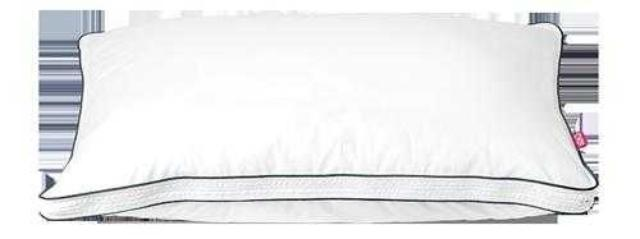pillow: (38, 10, 598, 222)
